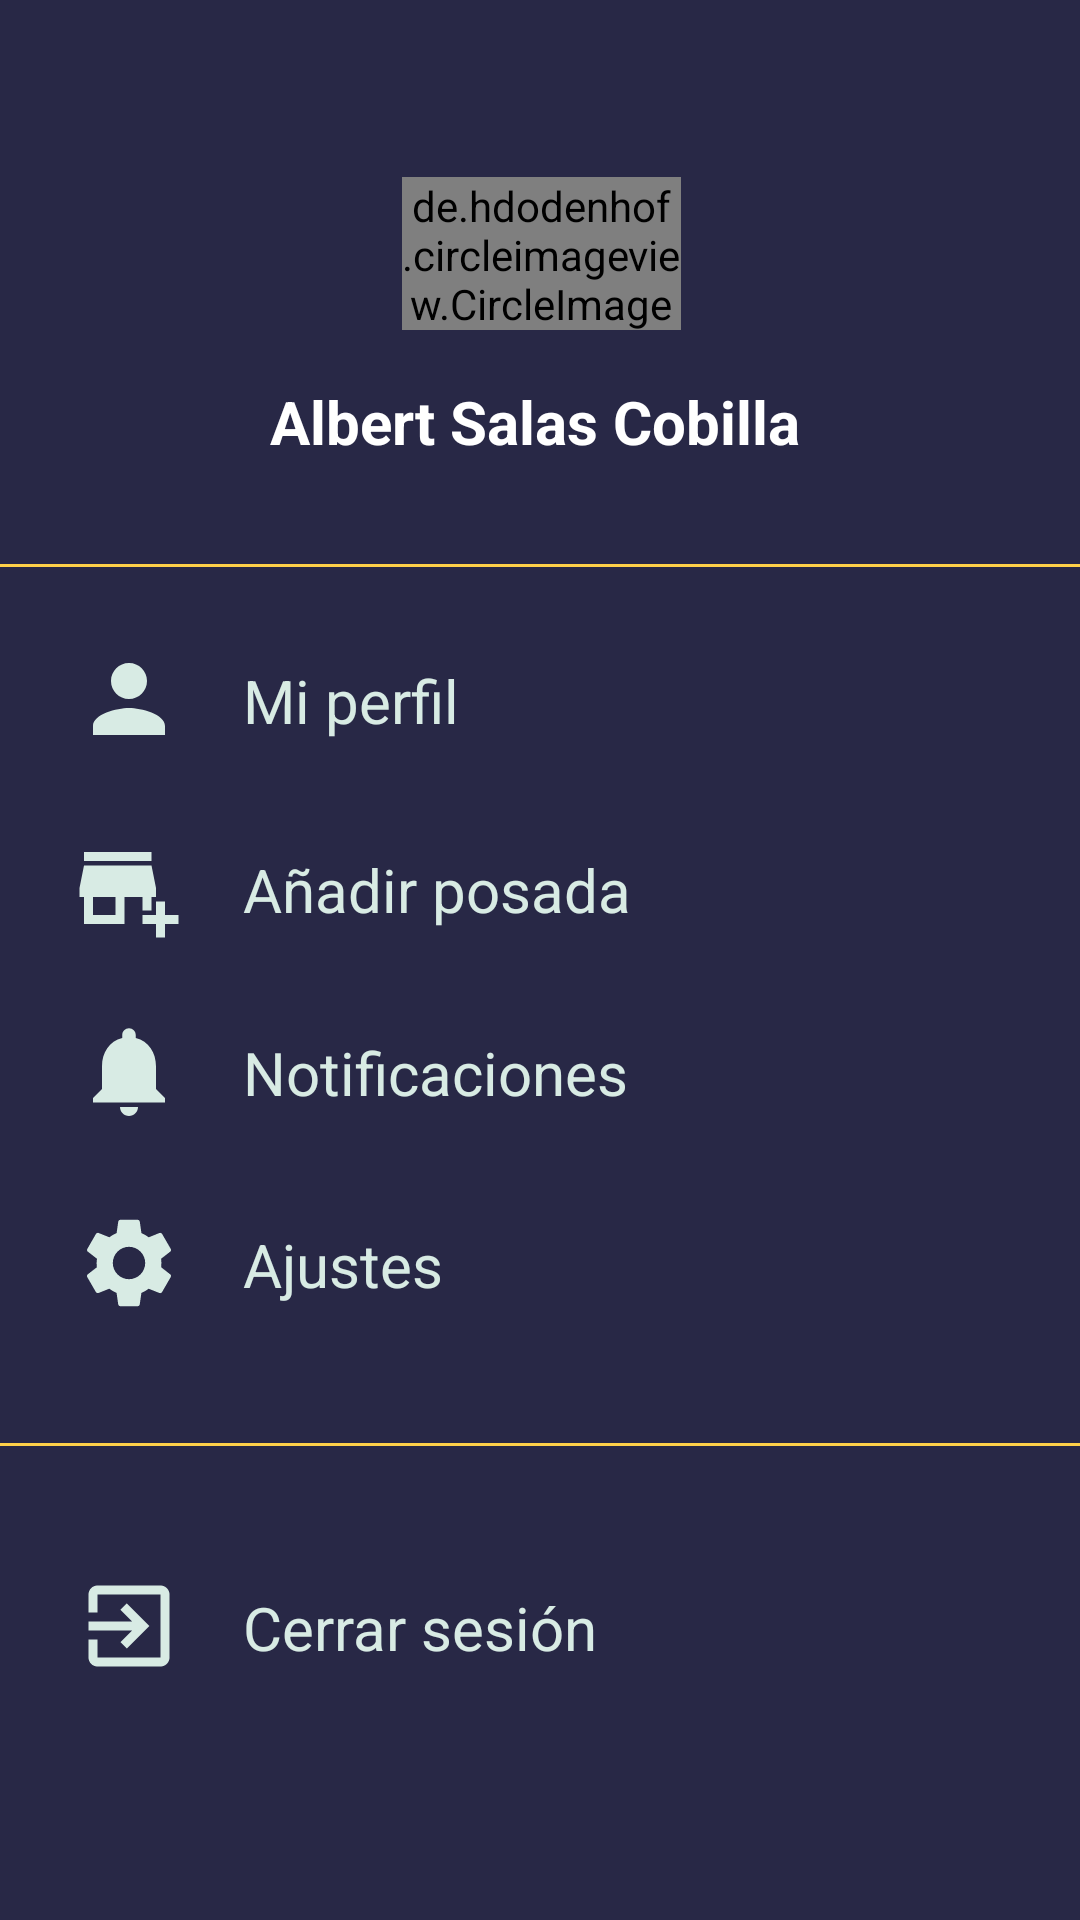

Named icons in this screenshot (1080x1920) and their centers, point (x, y):
exit: point (129, 1626)
notifications: point (129, 1072)
person: point (129, 699)
settings: point (129, 1263)
